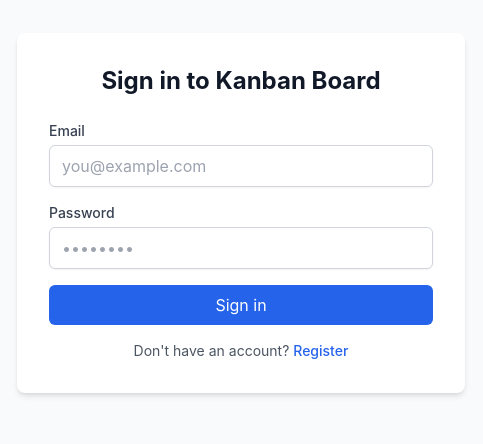
LoginPage › should display an error message on login failure
Type "test@example.com" into the field labelled "Email" at (241, 166), box x1=49 y1=145 x2=433 y2=187
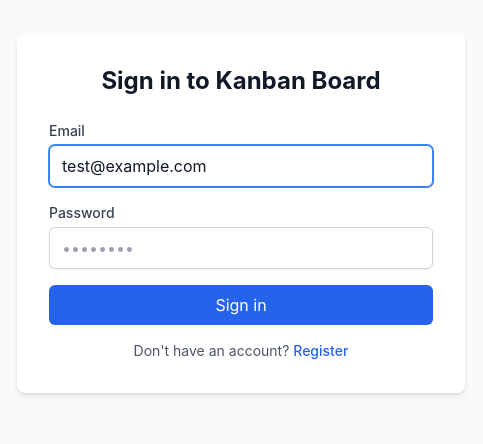
Type "wrongpassword" into the password field labelled "Password" at (241, 248), box x1=49 y1=227 x2=433 y2=269
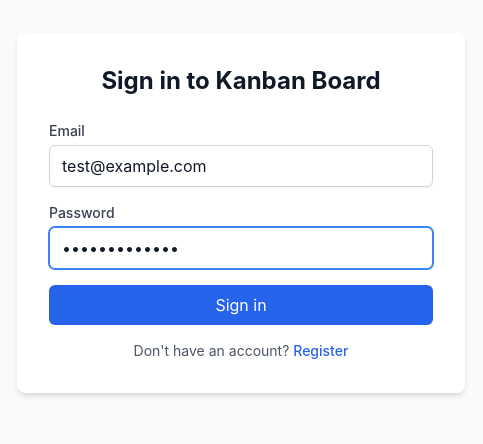
Click the button "Sign in" at (241, 305), box x1=49 y1=285 x2=433 y2=325
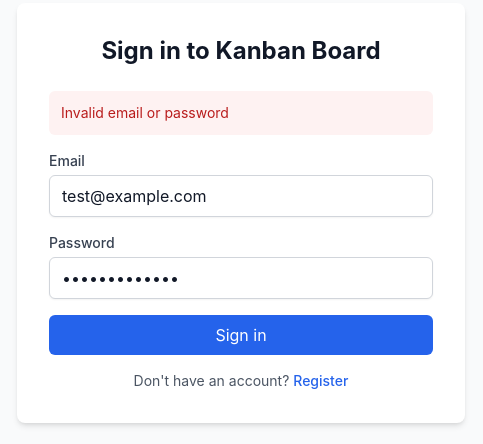
Result: the message reads "Invalid email or password" at x1=61 y1=104 x2=229 y2=121
